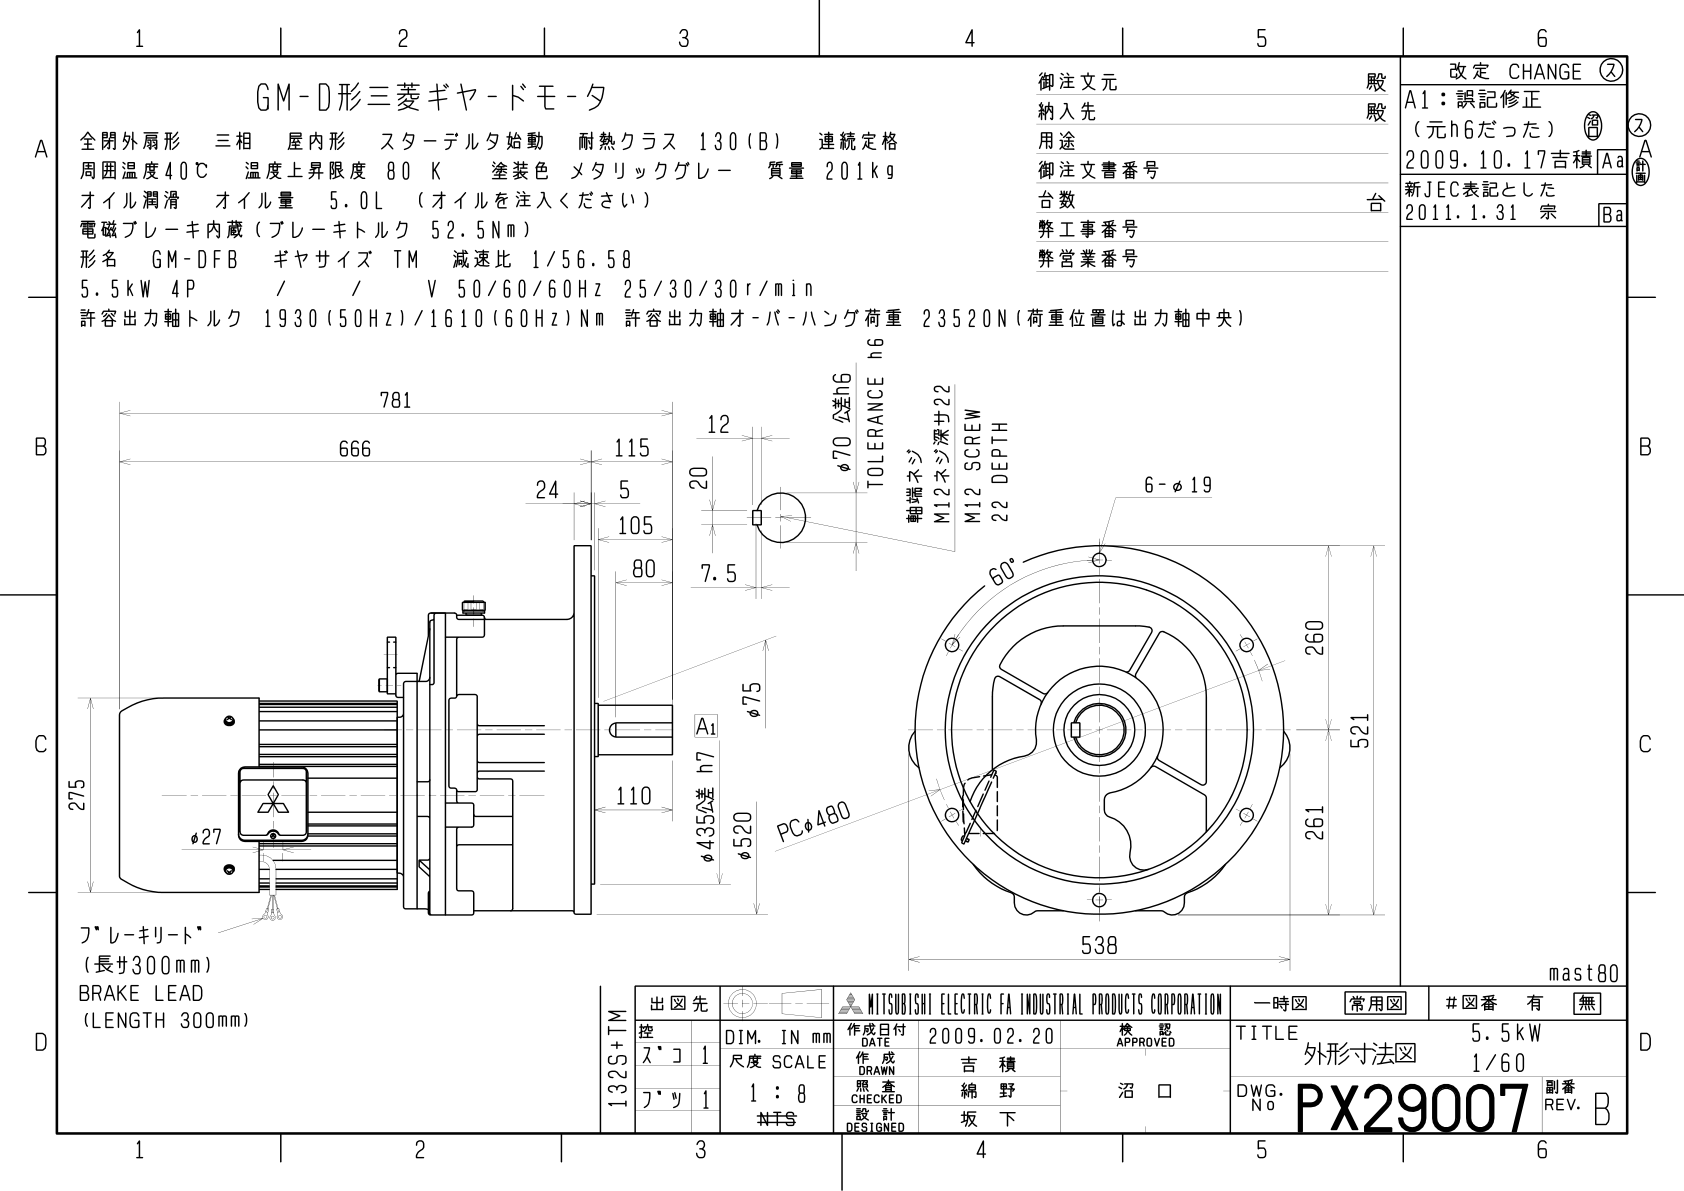GM_D_屋内＿三相_フランジ: (23, 19, 1684, 1191)
